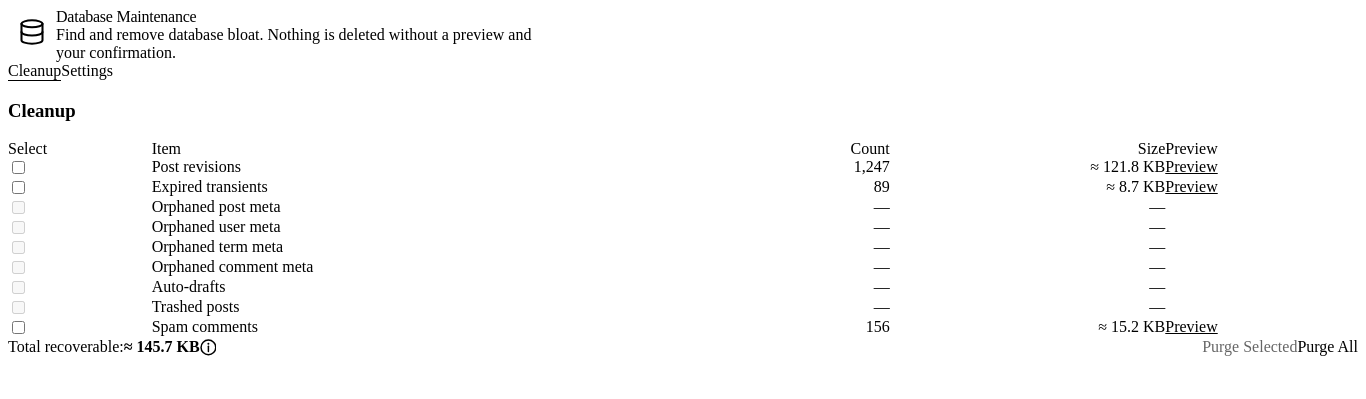
Test case: CleanupView › skips the dialog when fresh counts show nothing left to clean
The image size is (1366, 399).
What coordinates should you click on to do the following:
click the checkbox labelled "Spam comments"
I would click on:
 (18, 328)
Its box is x1=12 y1=321 x2=25 y2=334.
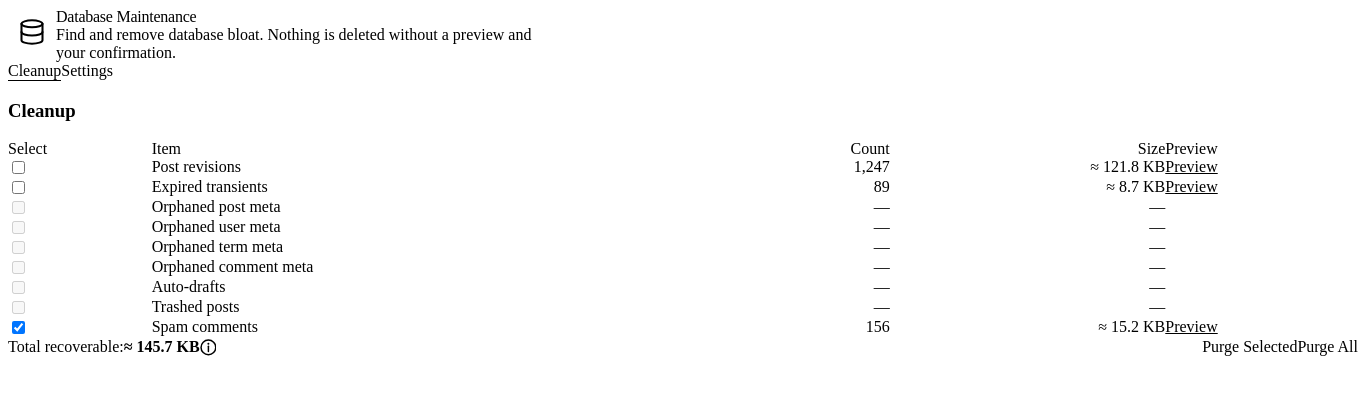
What coordinates should you click on to do the following:
click the button "Purge Selected"
I would click on:
 (1250, 347)
Its box is x1=1202 y1=338 x2=1297 y2=356.
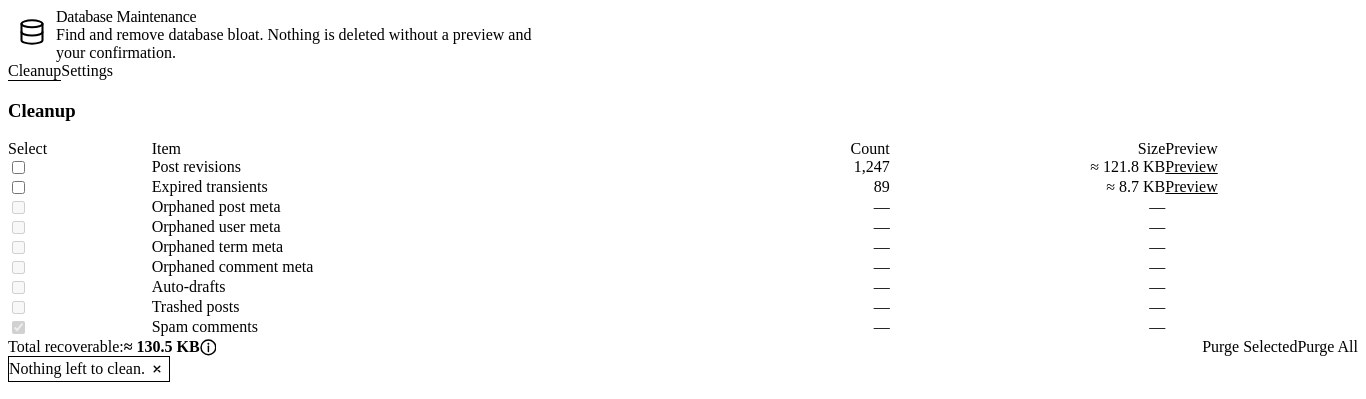
Expected: the text "Nothing left to clean." is shown, x1=9 y1=360 x2=145 y2=378
